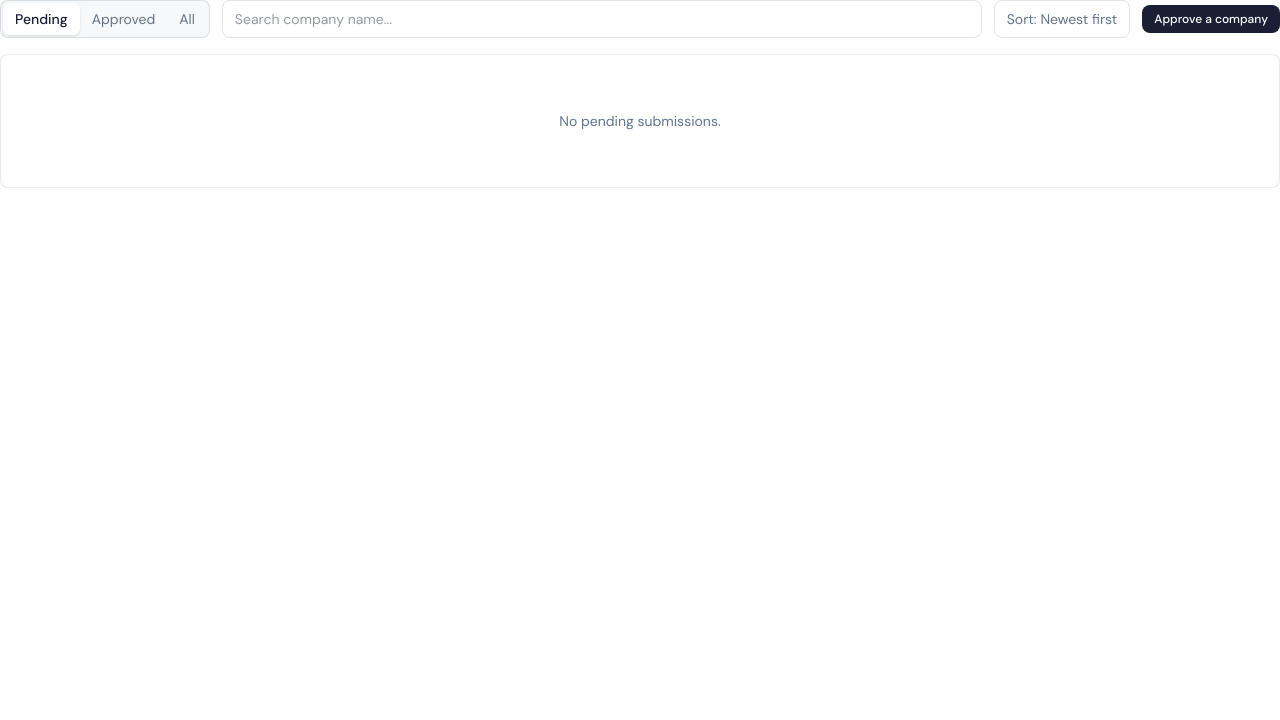
Test: EntityApprovalsTab — proactive approval › picking a participant opens the wizard in proactive mode against the counterparty endpoint
Click the button "Approve a company": click(1211, 19) [1142,5,1279,33]
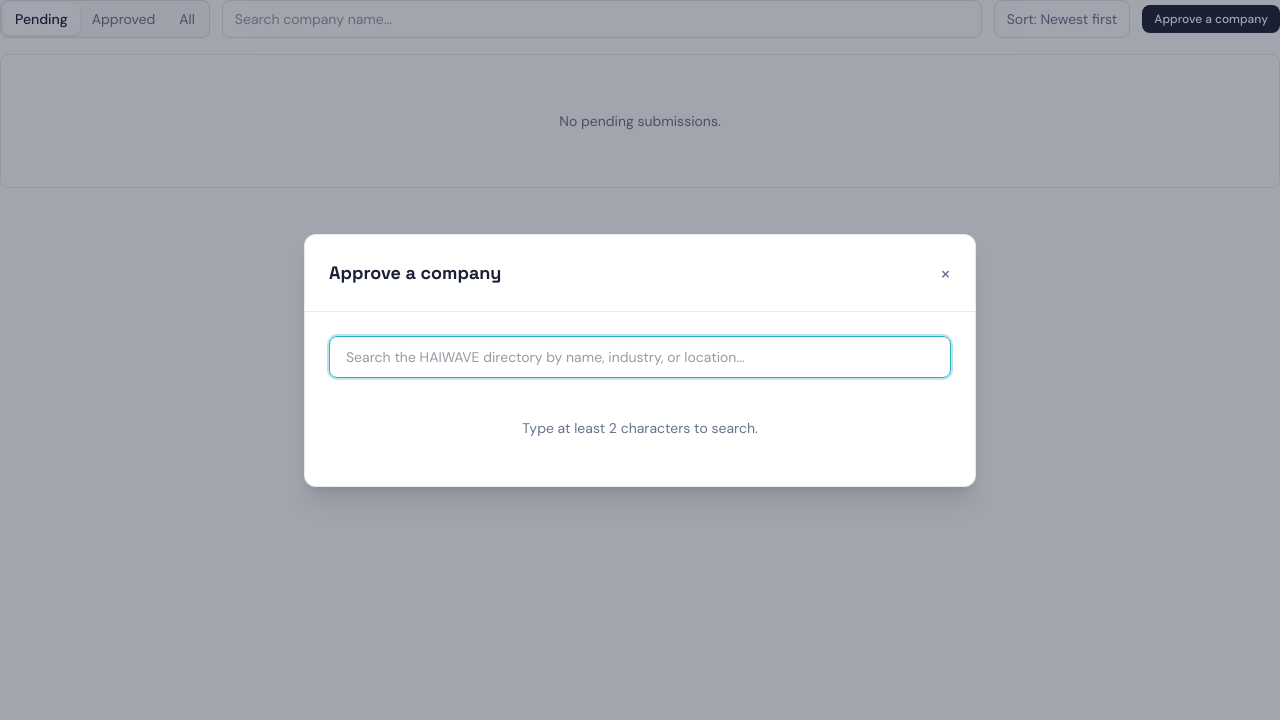
In the field with placeholder "Search the HAIWAVE directory": (640, 356) [329,336,951,378], type "acme"
Wait 300 ms
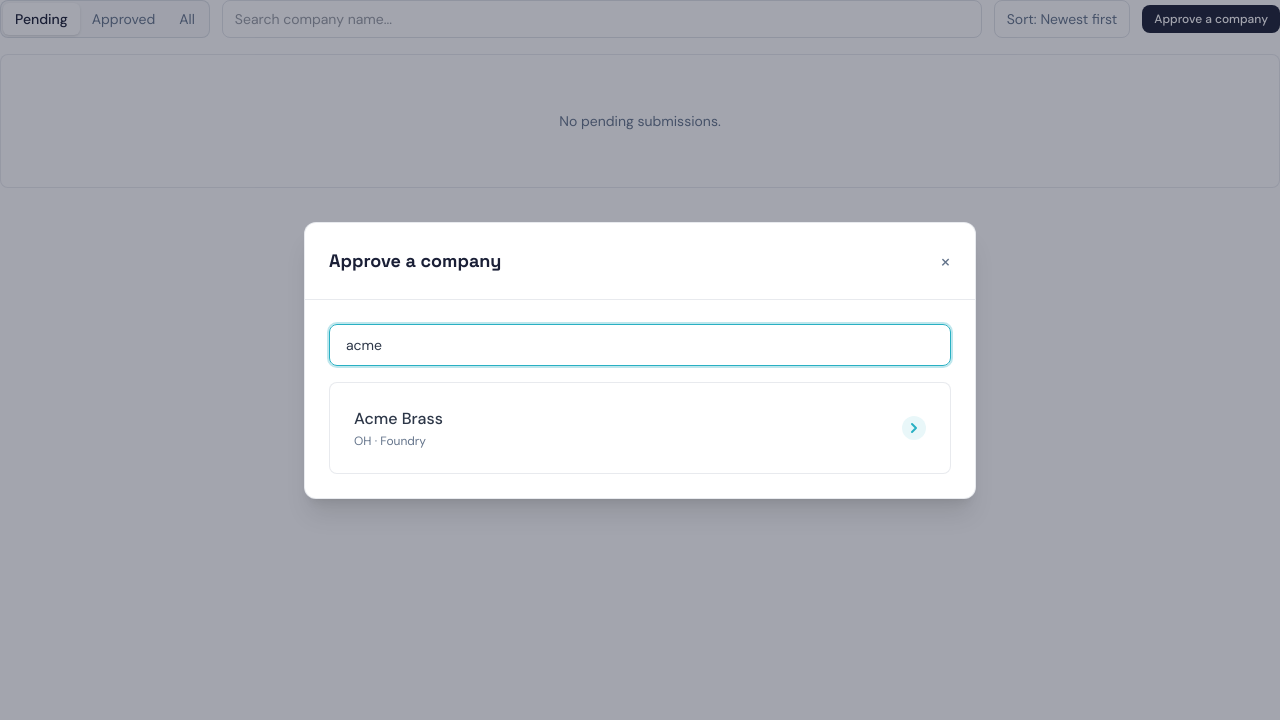
Result: the text "Acme Brass" is shown at [354,408,443,428]
Click the button with aria-label "review acme brass": click(398, 418) [354,406,926,448]
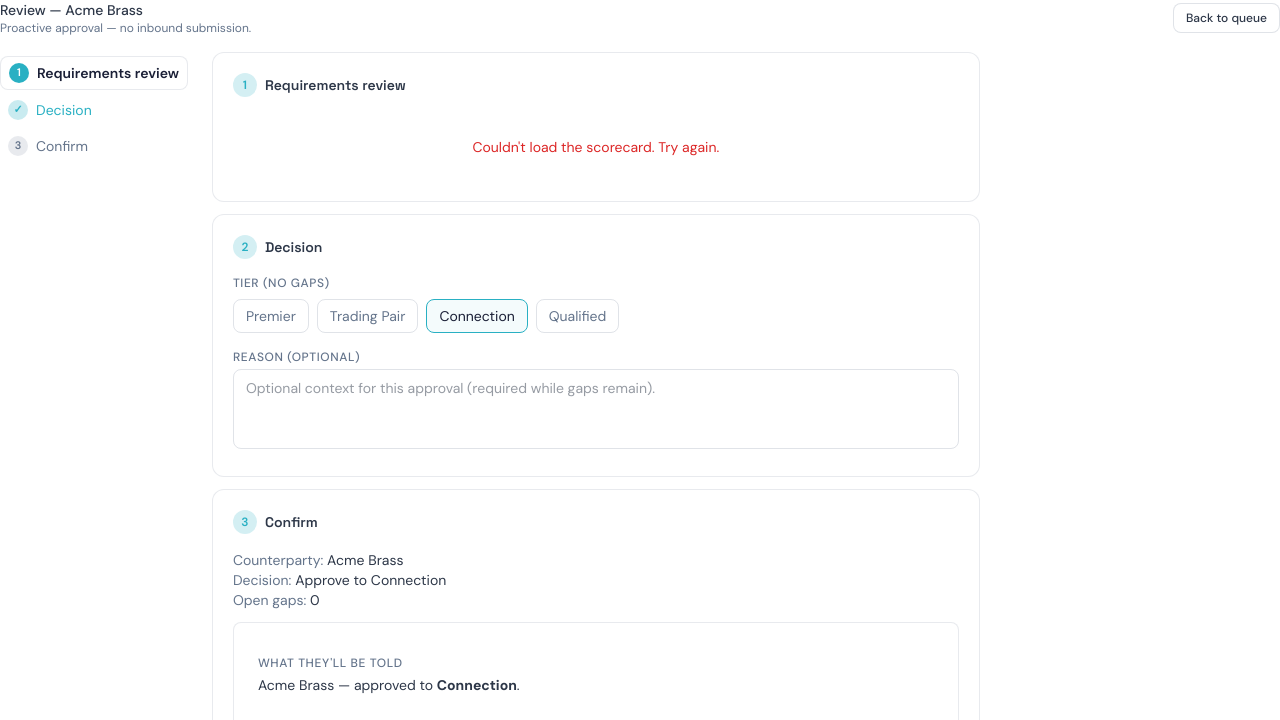
Result: the text "Proactive approval — no inbound submission." is shown at [0,20,251,36]
